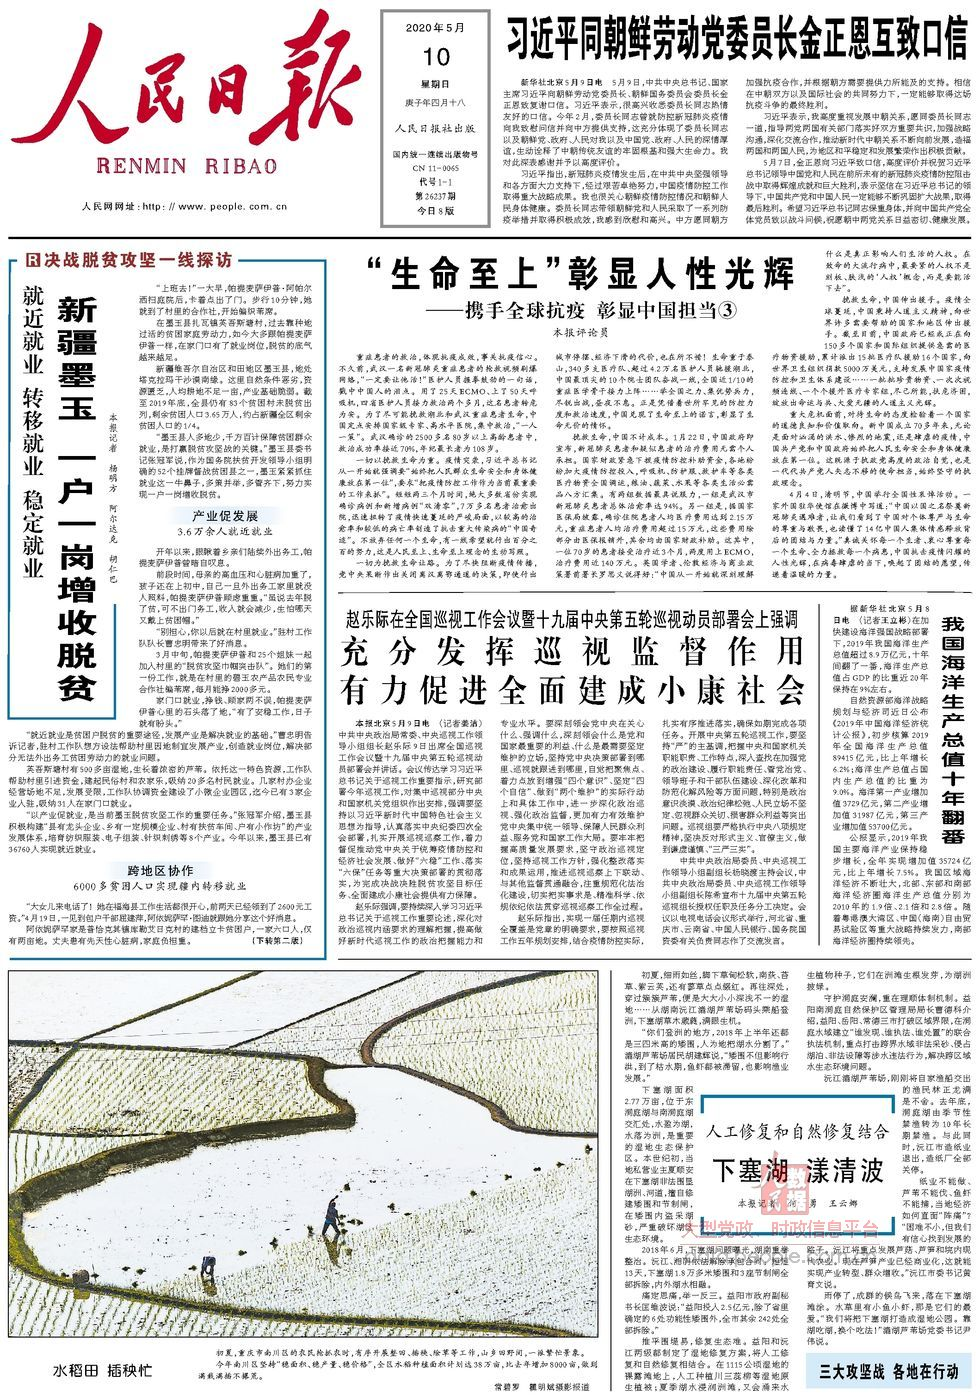pic: (5, 966, 603, 1341)
